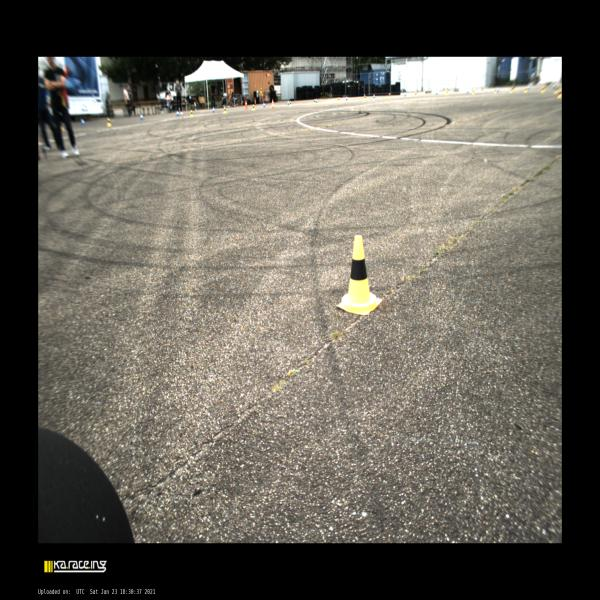blue_cone: (80, 117, 86, 126), (552, 82, 557, 90), (527, 83, 531, 90), (140, 113, 143, 120), (176, 110, 179, 117), (212, 106, 215, 113), (287, 100, 290, 106), (435, 89, 438, 95), (466, 88, 469, 94), (496, 86, 499, 92), (345, 95, 348, 100), (315, 98, 318, 103), (263, 102, 265, 108), (404, 92, 406, 97), (373, 94, 375, 98)
large_orange_cone: (244, 100, 249, 110), (271, 99, 275, 109)
yellow_cone: (336, 235, 382, 315), (553, 84, 560, 94), (556, 88, 562, 99), (541, 85, 546, 93), (189, 110, 194, 117), (510, 86, 515, 93), (107, 118, 111, 126), (524, 86, 528, 94), (223, 107, 227, 114), (252, 104, 255, 111), (494, 87, 497, 94), (289, 101, 292, 107), (313, 99, 316, 105), (414, 92, 417, 97), (388, 93, 391, 98), (472, 88, 474, 95), (446, 90, 448, 96), (338, 97, 340, 102), (364, 95, 366, 100)
